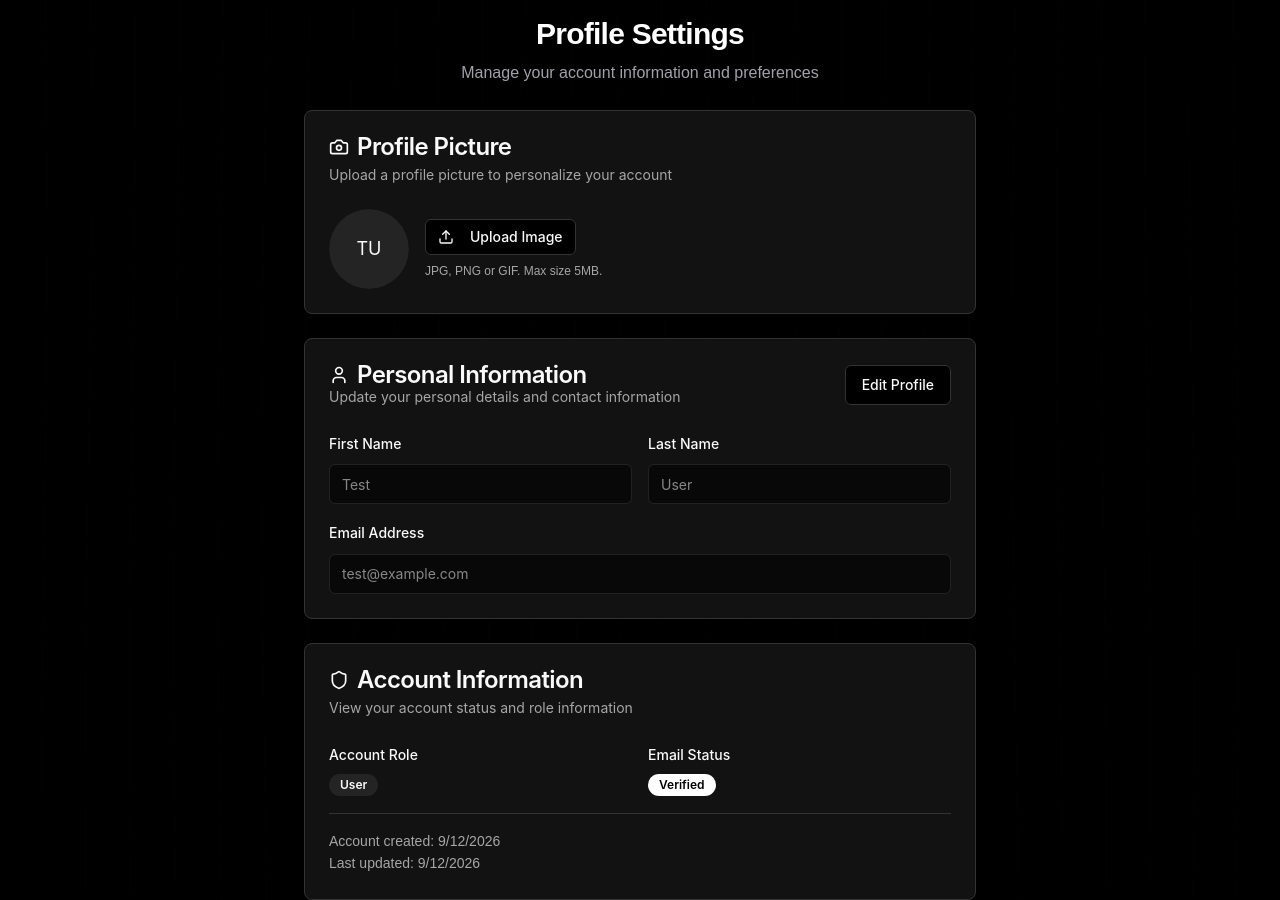
Scenario: UserProfile Page › should exit edit mode after successful save
The width and height of the screenshot is (1280, 900).
Note: Enter edit mode
Click the button "Edit Profile" at (898, 385), box [845,365,951,405]
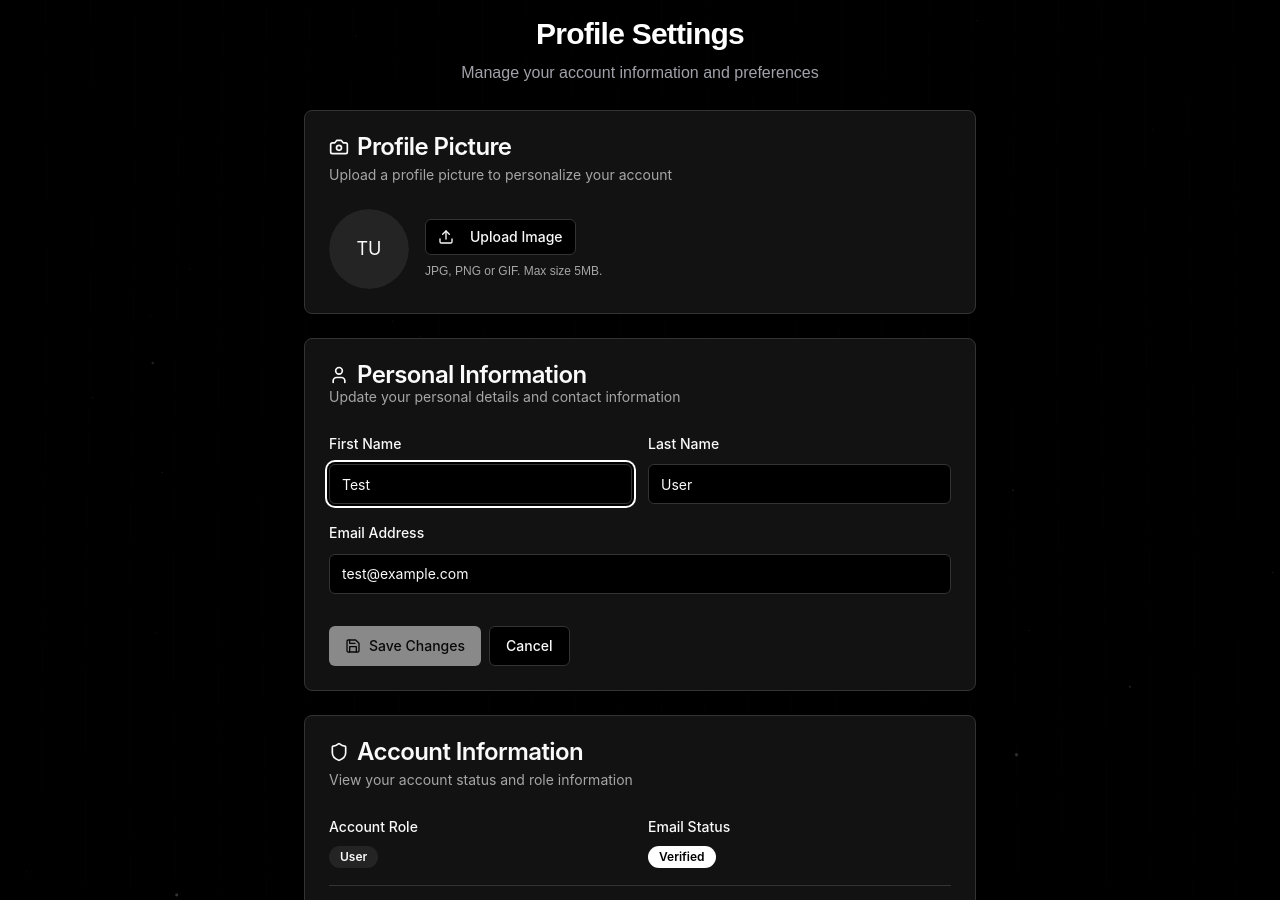
Check: the button "Save Changes" is shown, box [329,626,481,666]
Note: Update and save
Replace the text in the field showing "Test" with "Updated" at (480, 484), box [329,464,632,504]
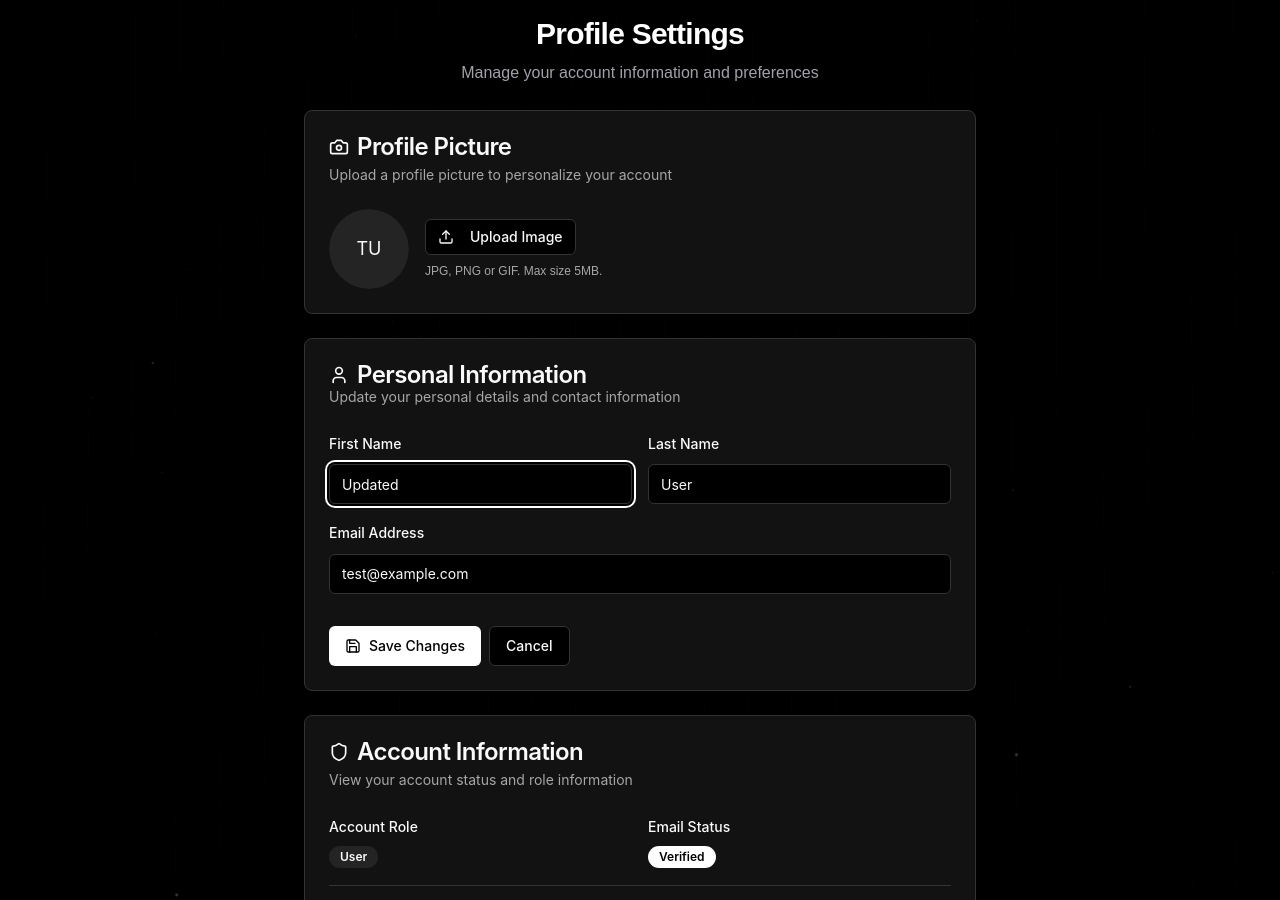
Click the button "Save Changes" at (405, 646), box [329,626,481,666]
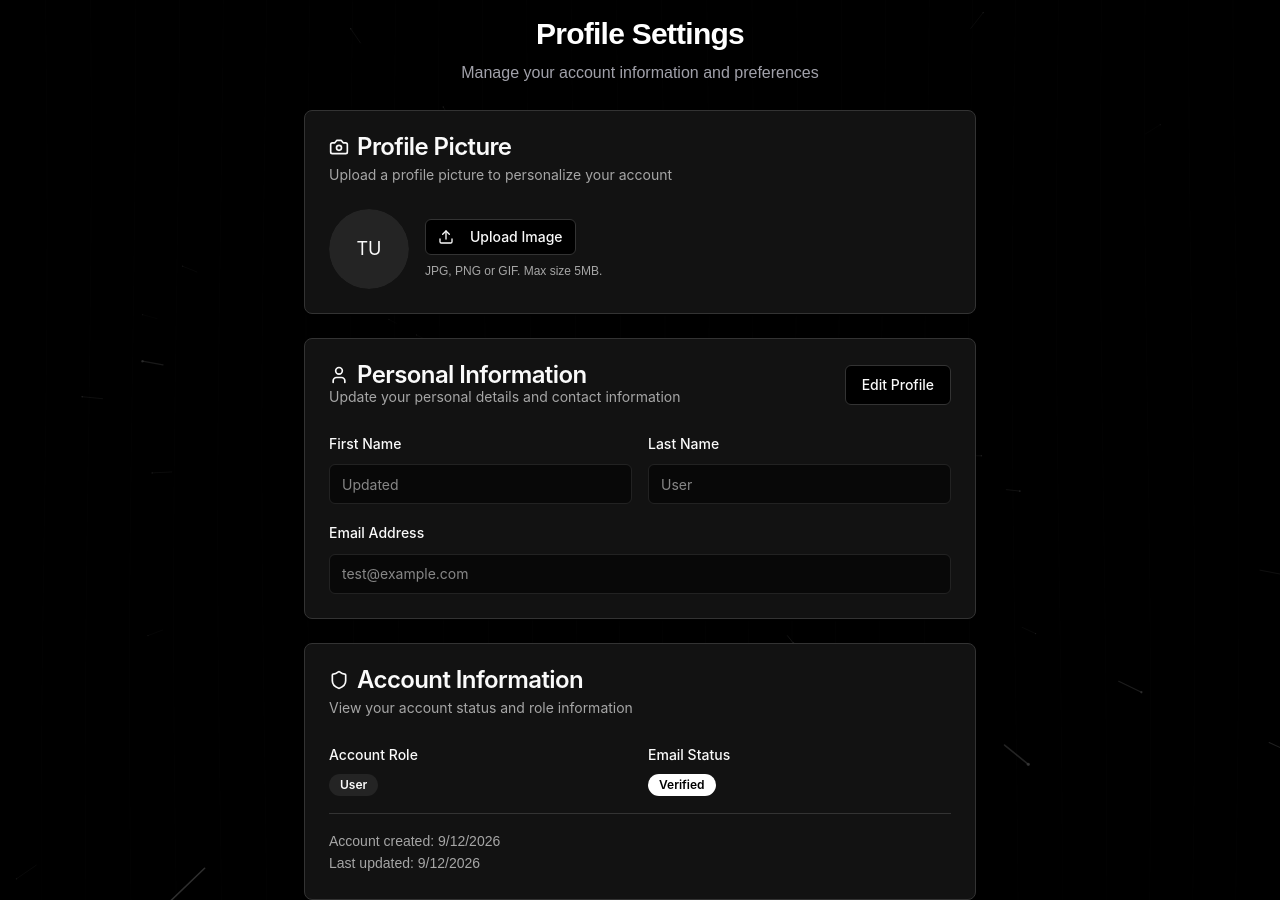
Check: the button "Edit Profile" is shown, box [845,365,951,405]
Check: the button "Save Changes" is gone
